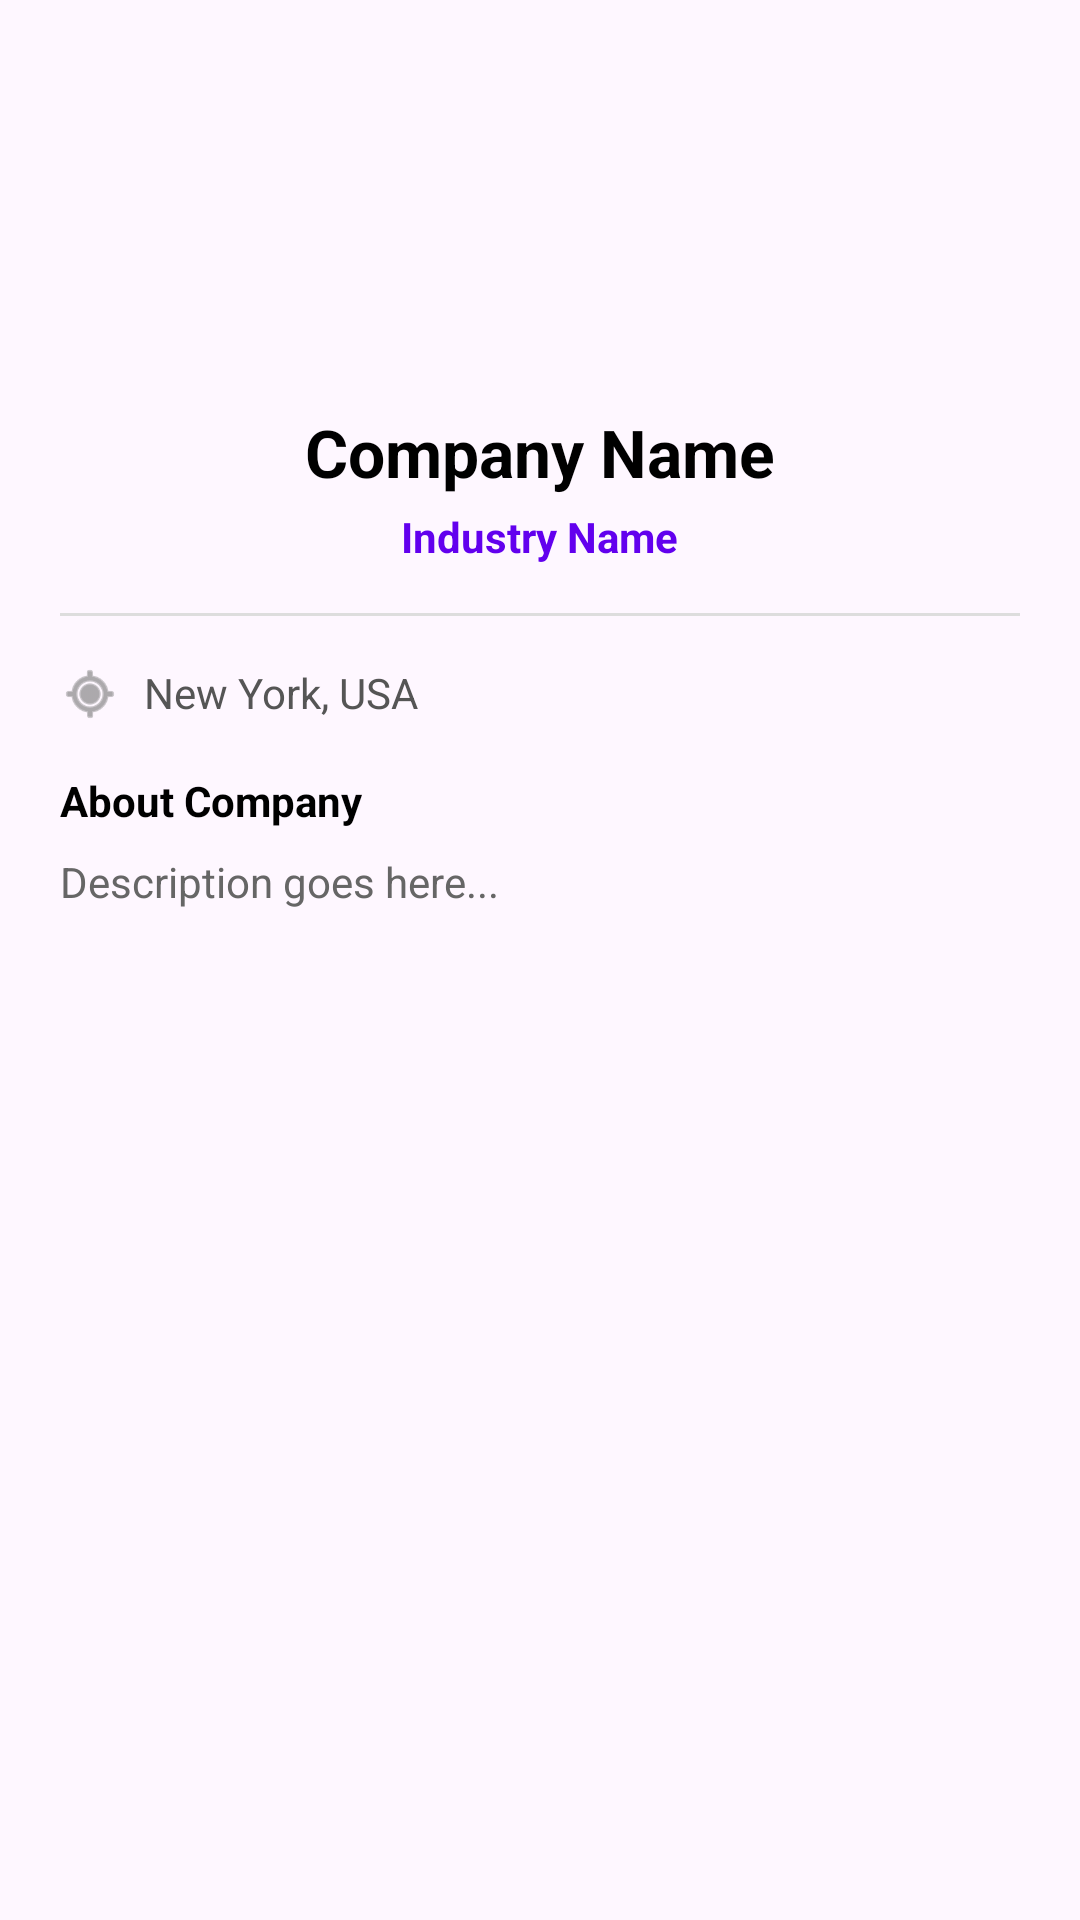

Icons on this 1080px×1920px Android screen, each with its box as (x1, y1, x2, y2):
mylocation: (66, 670, 114, 718)
